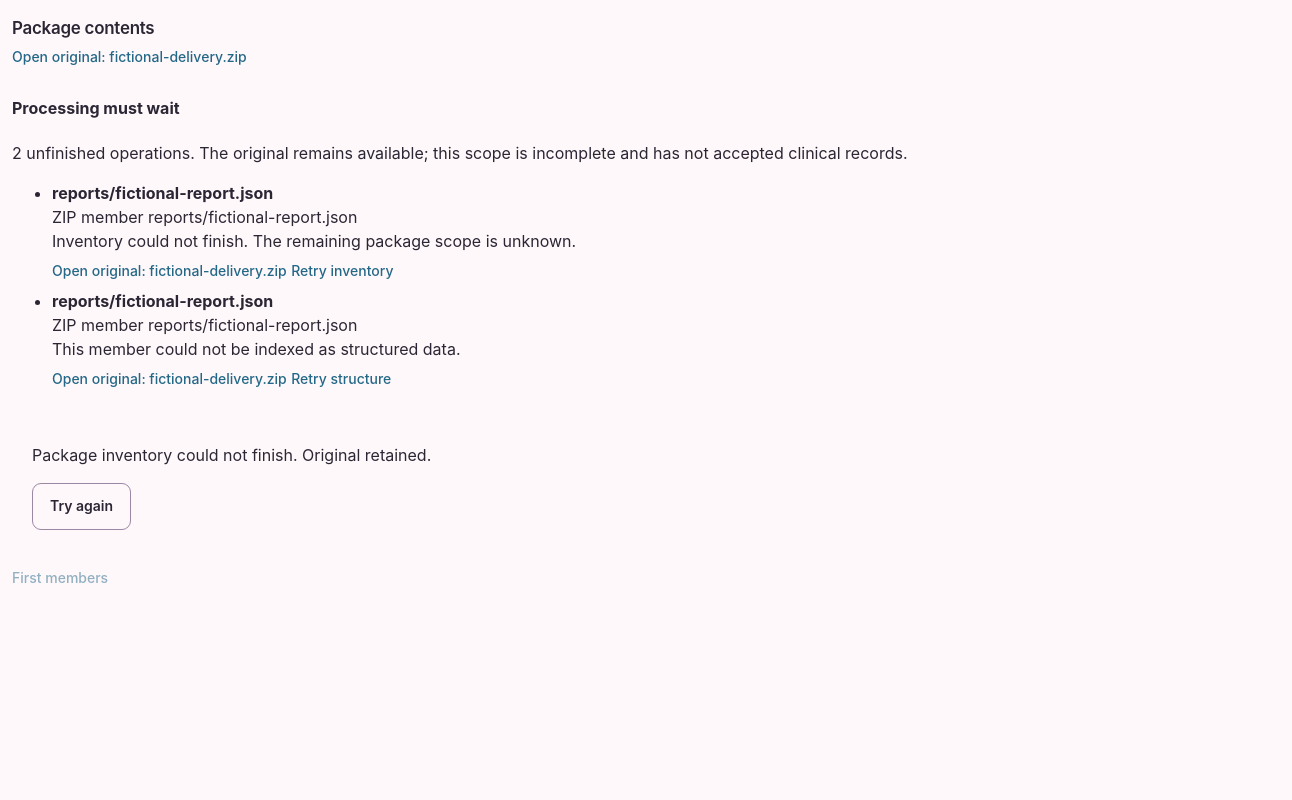
Test: reloads durable failures after inventory fails, retains the exact original link, and retries inventory without clearing another pending scope
expect the text "Inventory could not finish. The remaining package scope is unknown." is shown: met, box [52,231,576,251]
expect the text "reports/fictional-report.json" is shown 2 times: met, box [52,183,273,203]; [52,291,273,311]
What coordinates should you click on to do the following:
click the button "Retry inventory"
I would click on:
 (342, 271)
Its box is [291,253,393,289].
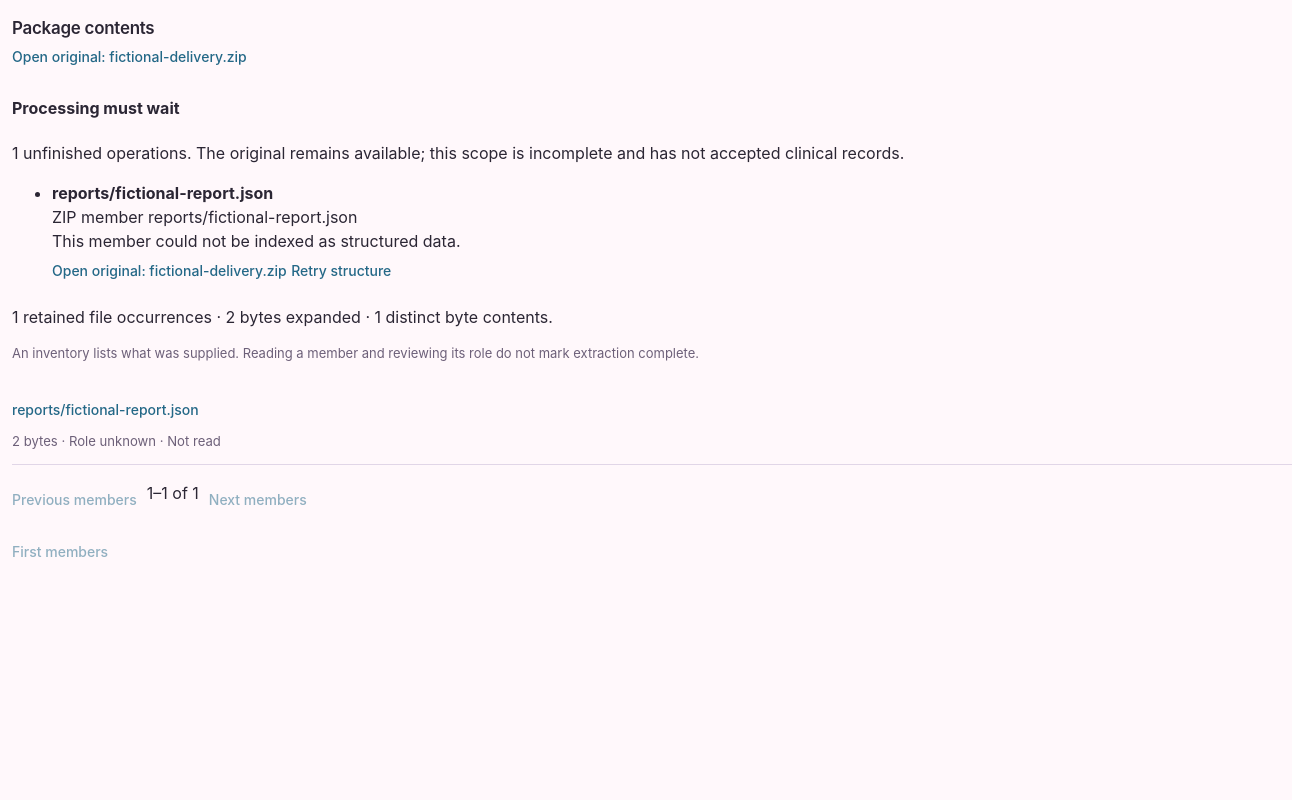
expect the text "This member could not be indexed as structured data." is shown: met, box [52,231,460,251]
expect the button "Retry inventory" is gone: met
